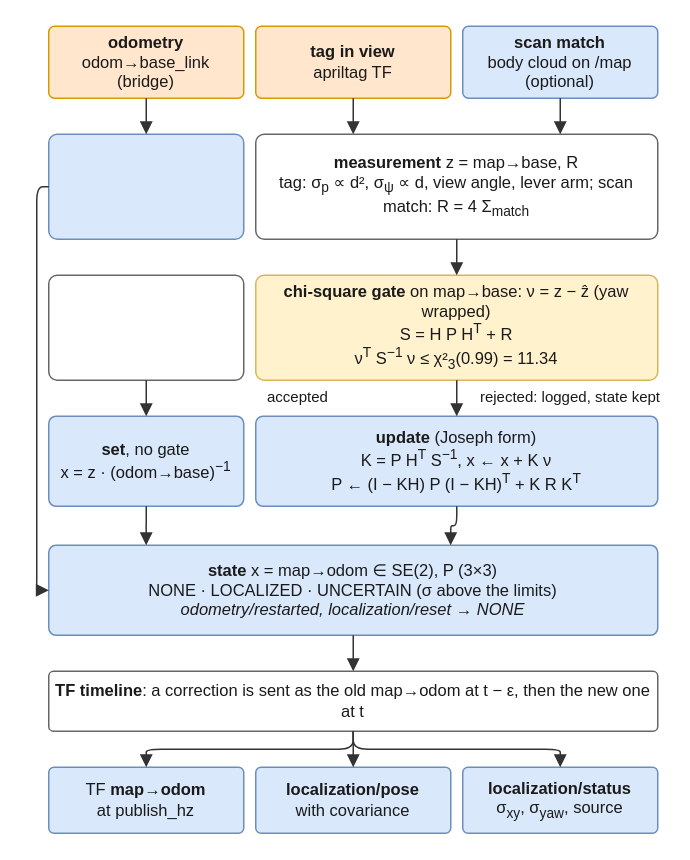
Image size: 690x860. Some labels were removed from this diagram. Here are the shapes that lost their labels. From the top down, the box of each, then its label:
(47, 133, 244, 239): predict per step Δs, Δθ: P ← P + J Q(Δs, Δθ) J T
(47, 274, 244, 380): explicit /initialpose, localization/start, assume_origin
